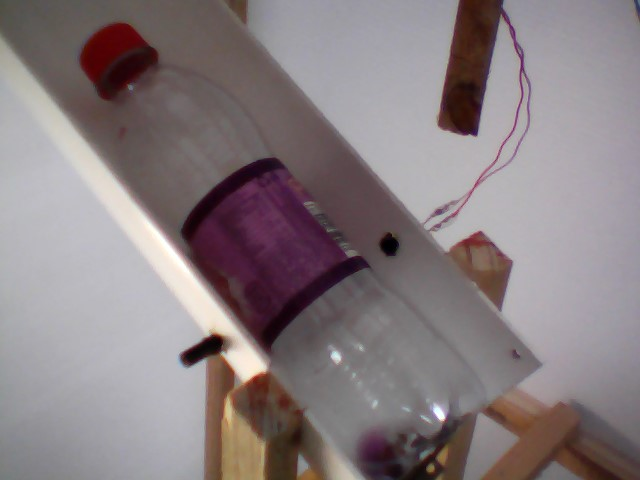plastico: (73, 17, 502, 480)
